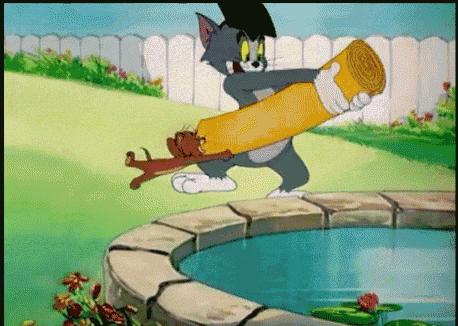jerry: (124, 124, 234, 192)
